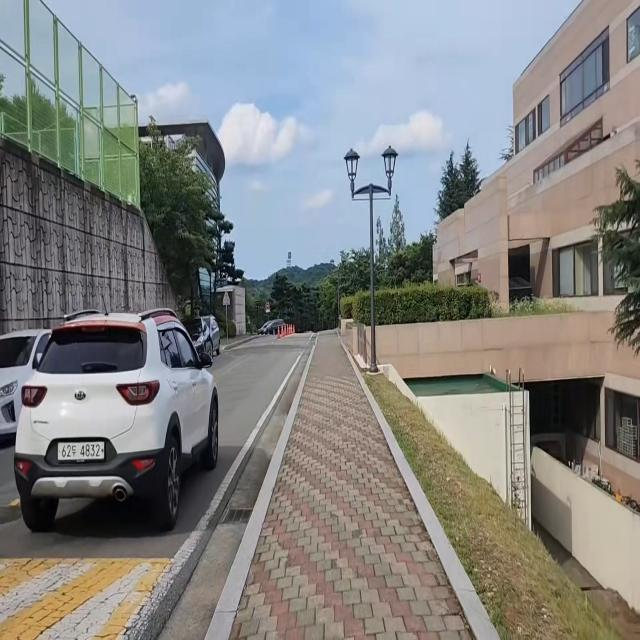obstacle: (0, 304, 222, 533), (342, 138, 400, 376)
sidewalk: (206, 344, 504, 640)
